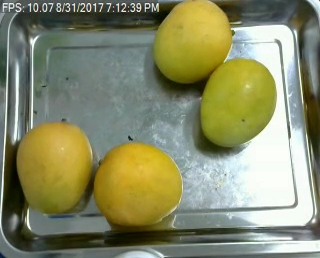Mango: (88, 135, 193, 234), (196, 58, 286, 152), (14, 113, 97, 213), (155, 3, 233, 88)
